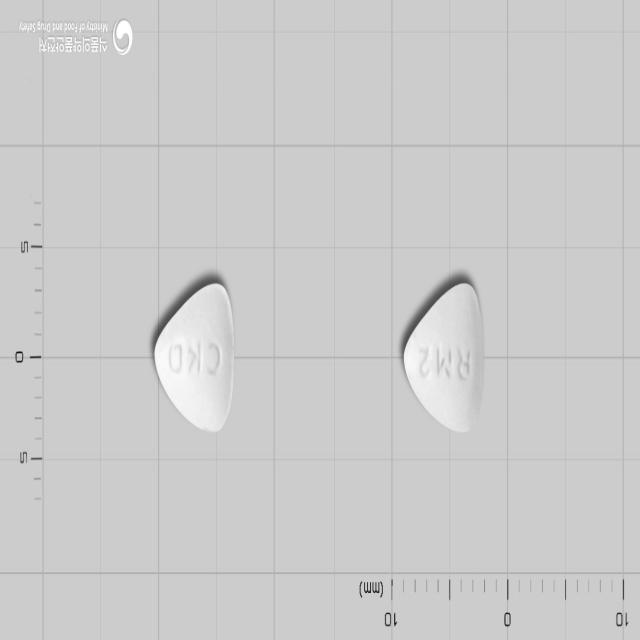Ciroctan - 500mg: (401, 281, 484, 435), (152, 281, 234, 435)
